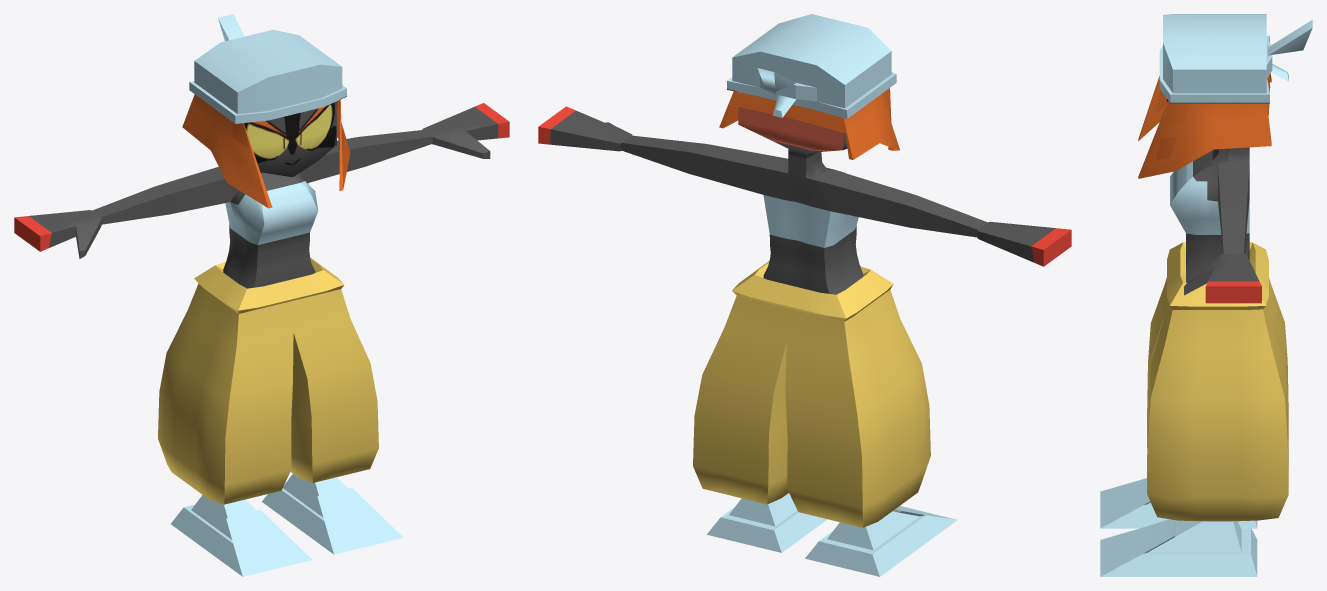
Rendered from LaskaLow.fbx.
The picture shows the model from 3 angles, left to right: view 1: azimuth 30°, elevation 25°; view 2: azimuth 150°, elevation 25°; view 3: azimuth 270°, elevation 25°; orthographic projection. The views are drawn at different scales.
Parts seen in each view (by area): view 1: Laska; view 2: Laska; view 3: Laska.
Boxes of the visible parts, <box> form: Laska: <box>14,14,509,576</box>; Laska: <box>538,14,1071,576</box>; Laska: <box>1100,14,1312,576</box>.
Bounding box in the file's own units: 9.26 × 8.86 × 3.34.
